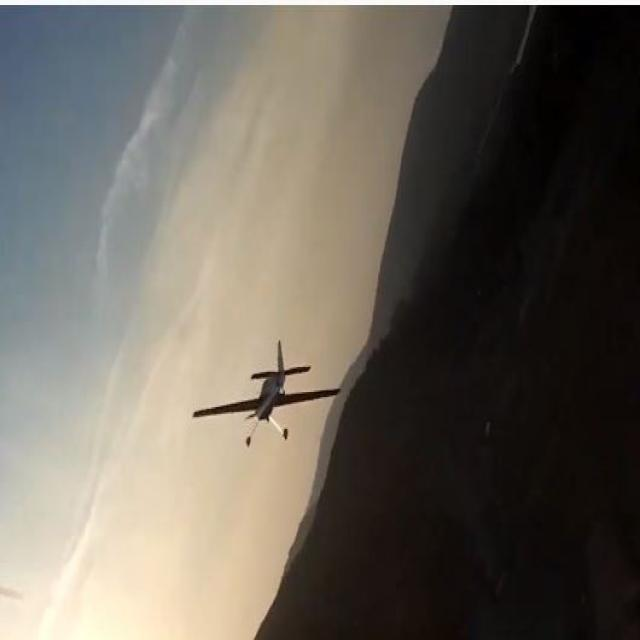iha: (184, 363, 336, 411)
